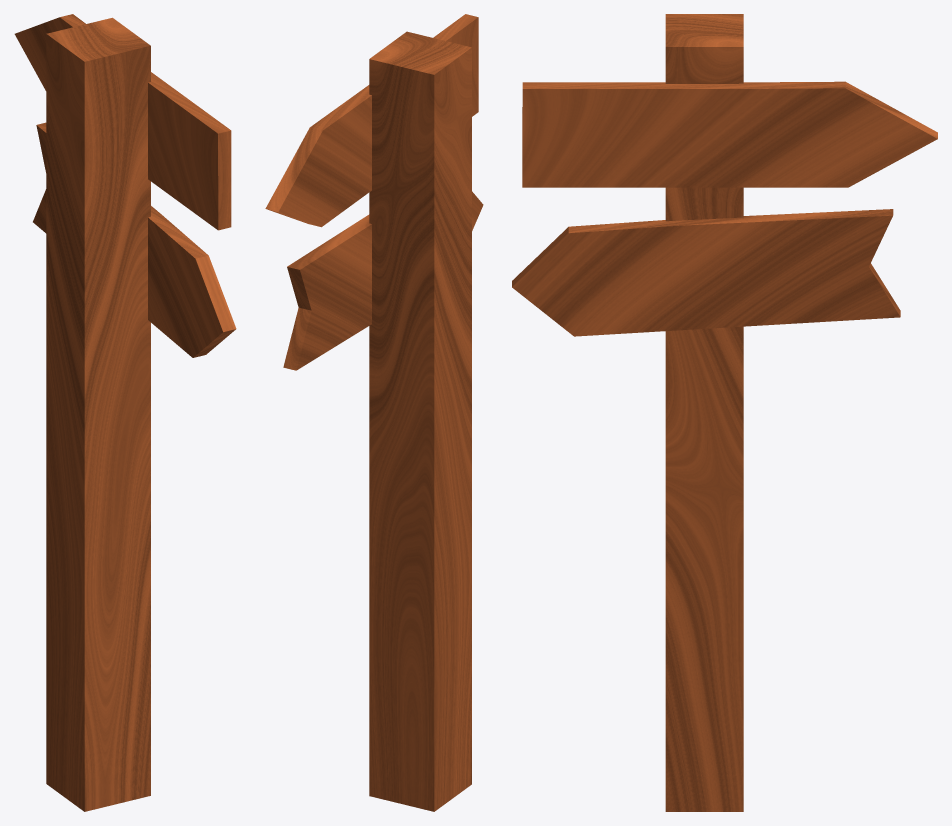
File: Sign3.fbx
3 renders of one model, left to right at view 1: azimuth 30°, elevation 25°; view 2: azimuth 150°, elevation 25°; view 3: azimuth 270°, elevation 25°, orthographic. The views are drawn at different scales.
Visible parts, largest first — view 1: Cube.004; view 2: Cube.004; view 3: Cube.004.
Part boxes in pixels (left/top/right/bottom): Cube.004: left=14, top=14, right=236, bottom=811; Cube.004: left=265, top=14, right=483, bottom=811; Cube.004: left=512, top=14, right=937, bottom=811.
Bounding box in the file's own units: 20.8 × 195 × 98.16.
Materials: 1 (1 with a texture image).
